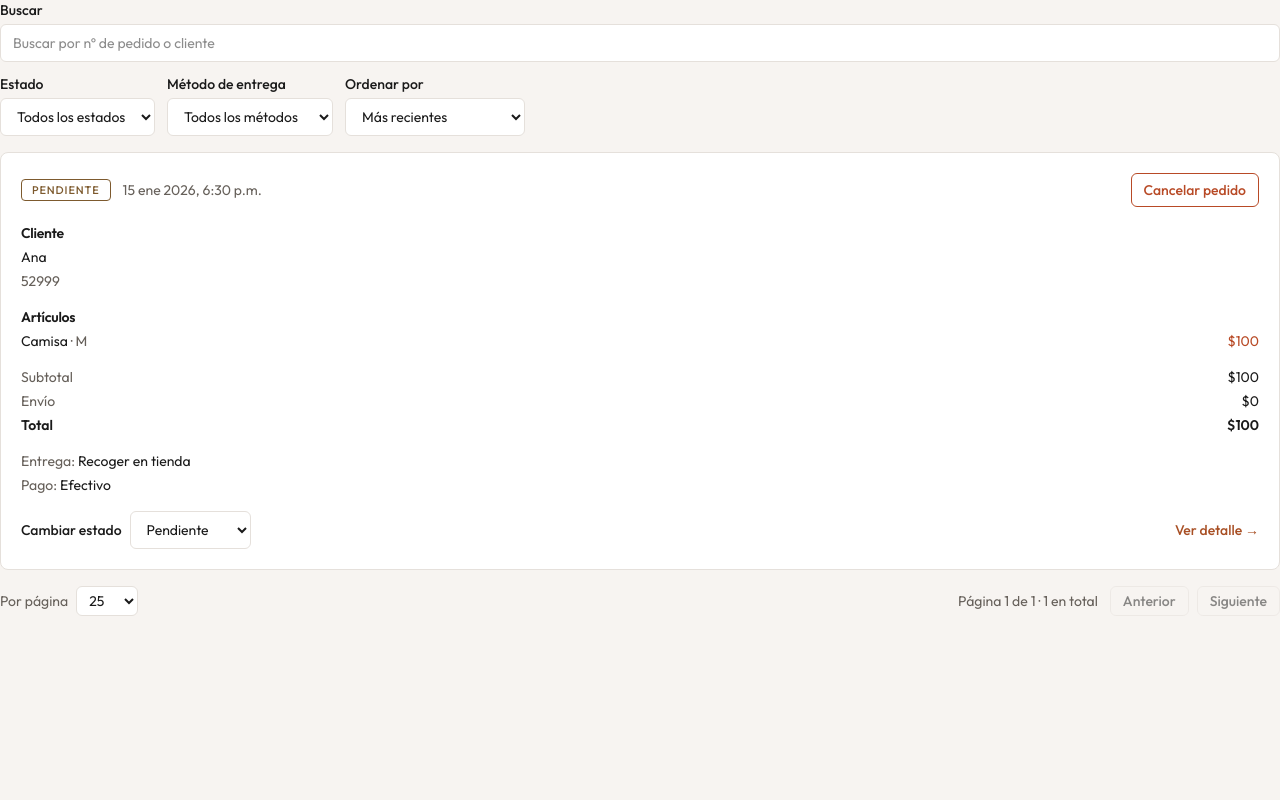
Scenario: OrdersView transitions › shows a generic message with the correlation ref on a 5xx
Select "Confirmado" in the dropdown labelled "Cambiar estado" at x=190, y=530, box [130,511,250,549]
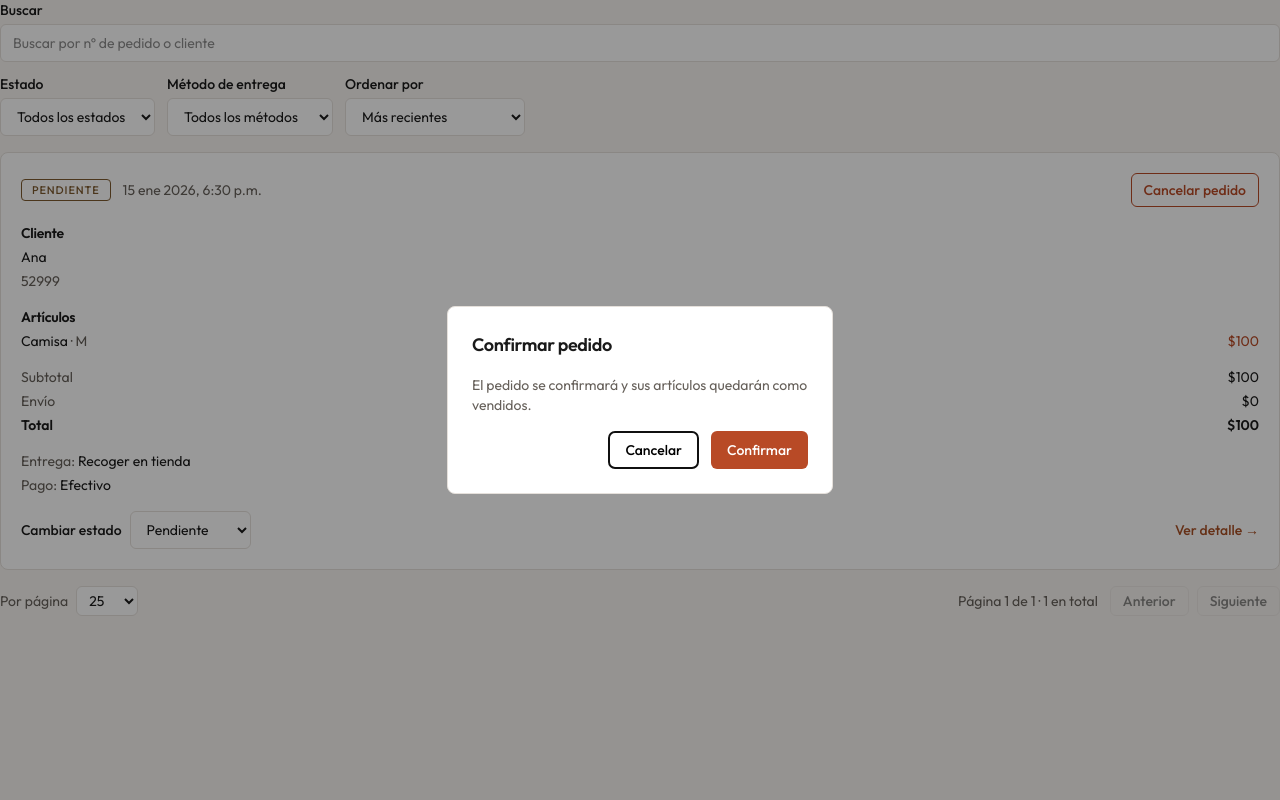
Click the button "Confirmar" at x=760, y=450, box [711,431,808,469]
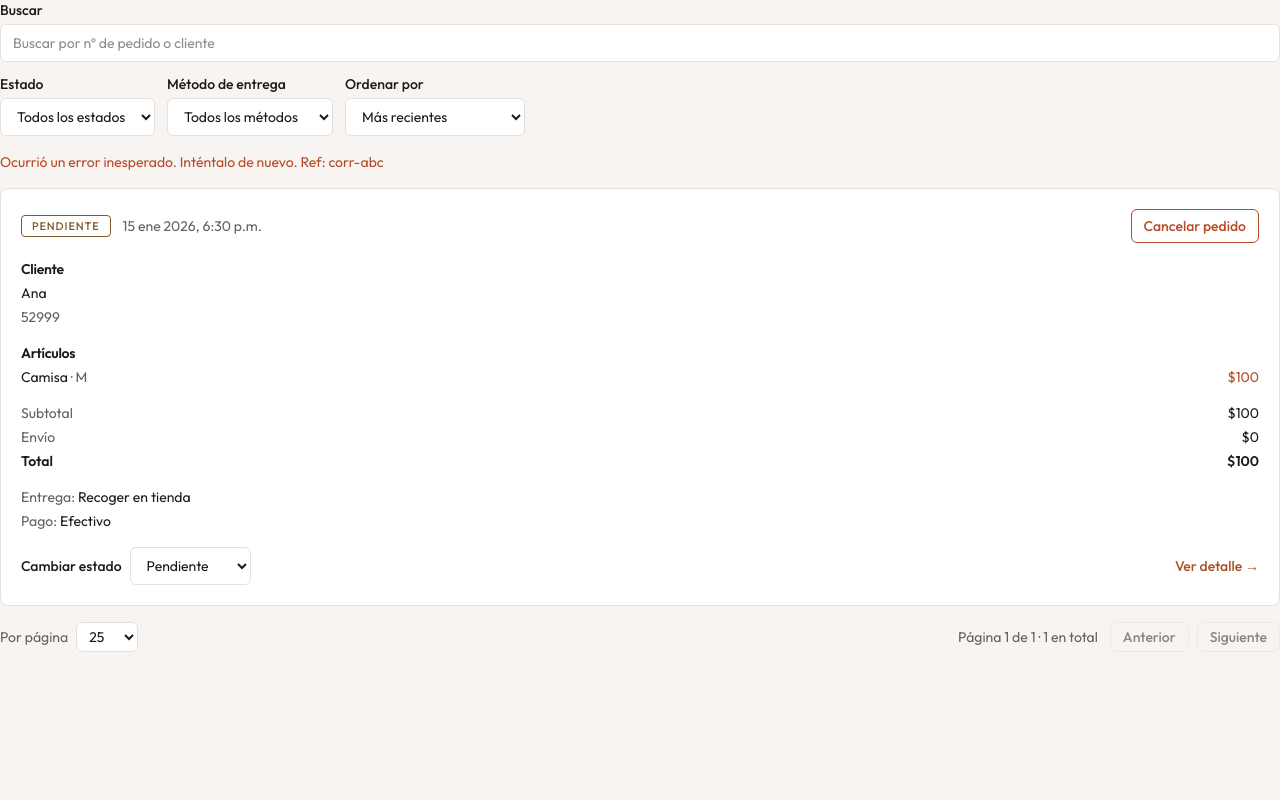
Expected: the text "Ocurrió un error inesperado. Inténtalo de nuevo. Ref: corr-abc" is shown, [0,153,384,171]
